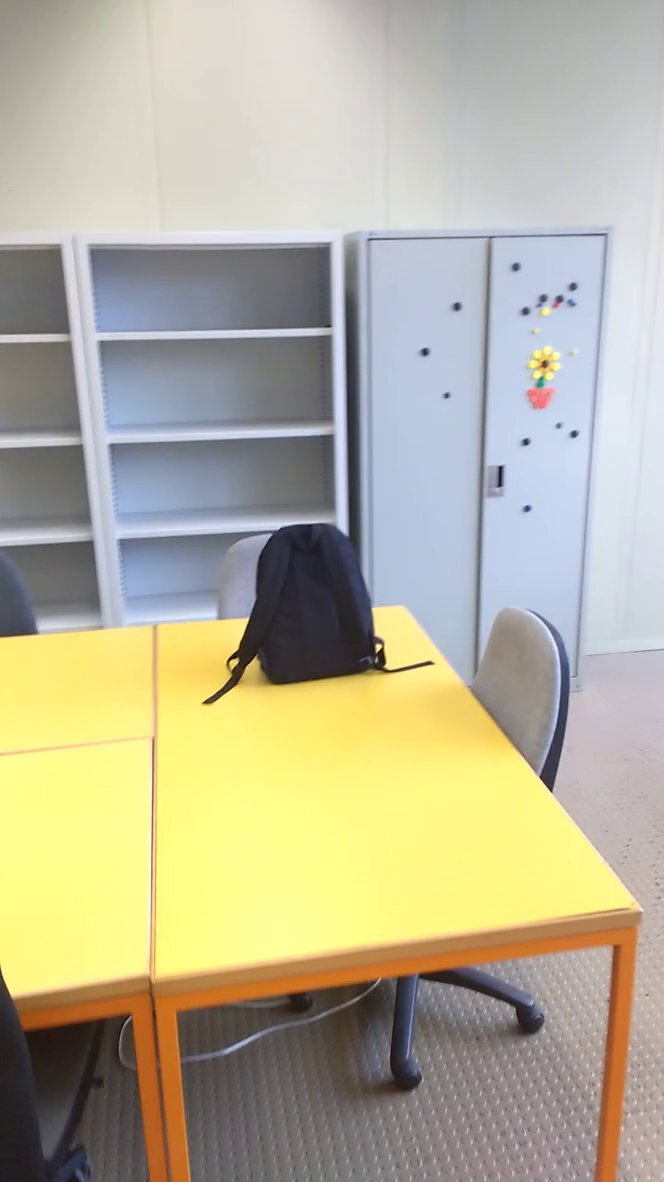bag: (201, 516, 442, 712)
chair: (455, 589, 582, 816)
